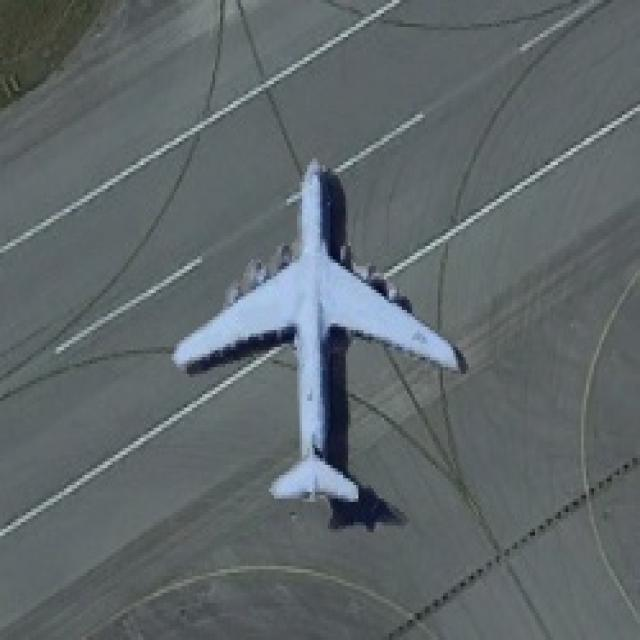C-5_TopDown: (169, 152, 468, 532)
